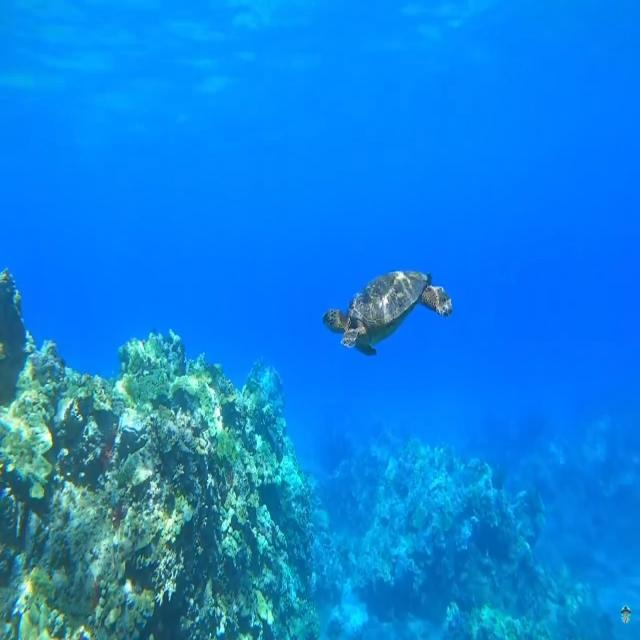Sea turtle: (321, 270, 455, 358)
